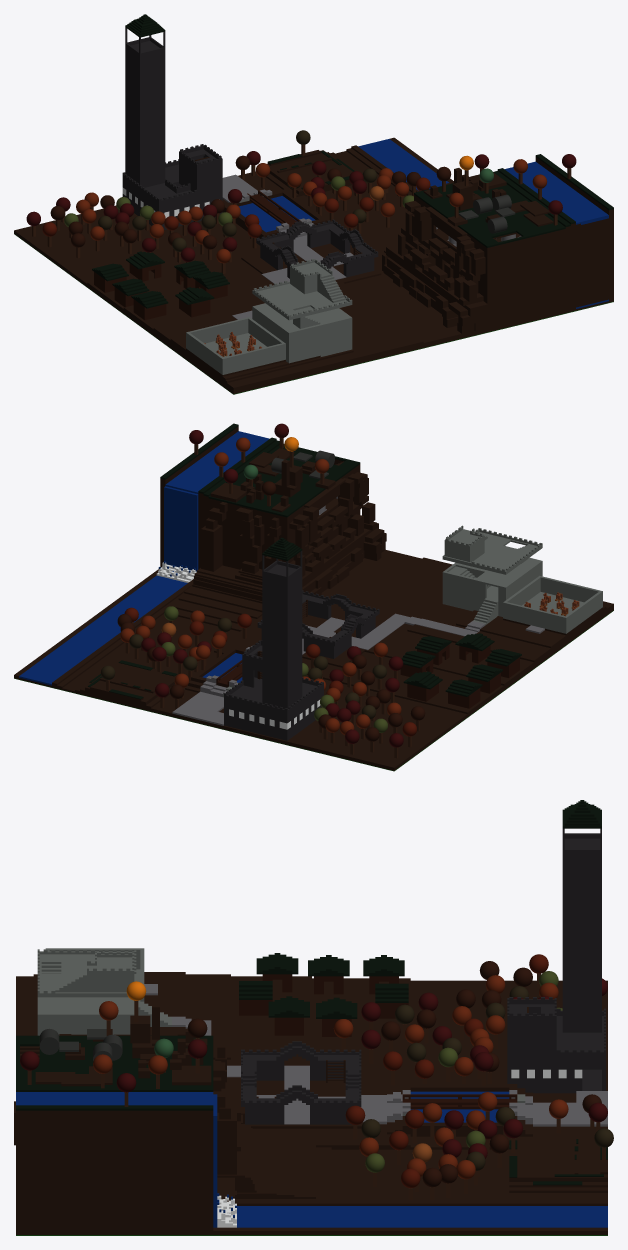
File: SunsetPlain.glb
The picture shows the model from 3 angles, top to bottom: view 1: azimuth 30°, elevation 25°; view 2: azimuth 150°, elevation 25°; view 3: azimuth 270°, elevation 25°; orthographic projection. The views are drawn at different scales.
Parts seen in each view (by area): view 1: mesh_id823, mesh_id822, mesh_id821, mesh_id1572, mesh_id632, mesh_id630, mesh_id824, mesh_id755, mesh_id820, mesh_id817, mesh_id560, mesh_id624 (+17 smaller); view 2: mesh_id823, mesh_id822, mesh_id821, mesh_id1572, mesh_id817, mesh_id824, mesh_id758, mesh_id820, mesh_id755, mesh_id631, mesh_id819, mesh_id560 (+26 smaller); view 3: mesh_id706, mesh_id817, mesh_id701, mesh_id824, mesh_id1572, mesh_id823, mesh_id822, mesh_id821, mesh_id820, mesh_id815, mesh_id111, mesh_id755 (+37 smaller).
Part boxes in pixels (bbox=[...]): mesh_id823: bbox=[14, 171, 487, 392]; mesh_id822: bbox=[87, 220, 487, 390]; mesh_id821: bbox=[123, 268, 423, 389]; mesh_id1572: bbox=[125, 41, 165, 187]; mesh_id632: bbox=[489, 250, 613, 320]; mesh_id630: bbox=[485, 219, 613, 279]; mesh_id824: bbox=[14, 151, 613, 394]; mesh_id755: bbox=[504, 161, 608, 224]; mesh_id820: bbox=[153, 301, 353, 382]; mesh_id817: bbox=[358, 139, 608, 308]; mesh_id560: bbox=[414, 183, 516, 240]; mesh_id624: bbox=[452, 183, 565, 238]; mesh_id823: bbox=[140, 607, 613, 769]; mesh_id822: bbox=[214, 550, 613, 713]; mesh_id821: bbox=[334, 557, 613, 685]; mesh_id1572: bbox=[262, 564, 302, 709]; mesh_id817: bbox=[19, 575, 187, 685]; mesh_id824: bbox=[14, 609, 613, 770]; mesh_id758: bbox=[164, 486, 198, 571]; mesh_id820: bbox=[407, 604, 607, 661]; mesh_id755: bbox=[165, 431, 269, 493]; mesh_id631: bbox=[160, 488, 288, 544]; mesh_id819: bbox=[456, 606, 605, 648]; mesh_id560: bbox=[249, 459, 351, 517]; mesh_id706: bbox=[20, 1166, 213, 1219]; mesh_id817: bbox=[237, 1206, 607, 1227]; mesh_id701: bbox=[20, 1123, 209, 1164]; mesh_id824: bbox=[16, 1149, 607, 1234]; mesh_id1572: bbox=[562, 838, 601, 1032]; mesh_id823: bbox=[331, 980, 607, 1149]; mesh_id822: bbox=[252, 978, 410, 1147]; mesh_id821: bbox=[16, 976, 311, 1101]; mesh_id820: bbox=[33, 974, 230, 1059]; mesh_id815: bbox=[16, 1227, 607, 1232]; mesh_id111: bbox=[517, 1141, 600, 1174]; mesh_id755: bbox=[16, 1092, 213, 1105].
Bounding box in the file's own units: 0.512 × 0.2594 × 0.5154.
1666 materials, 1666 textured.
